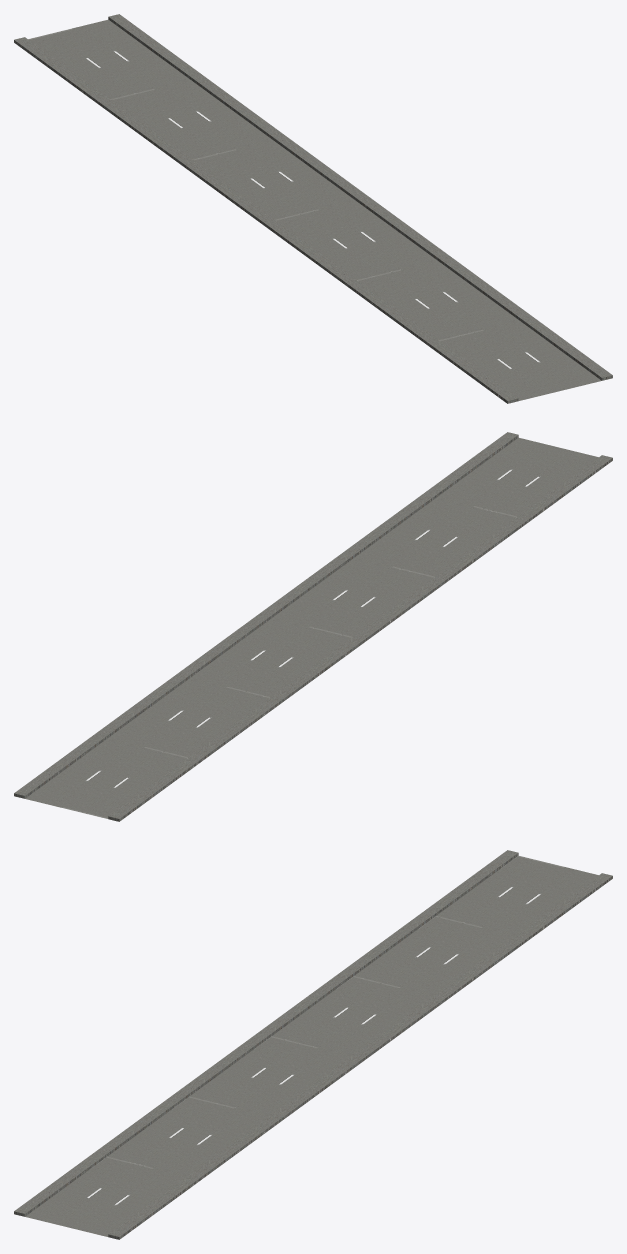
Rendered from Road.fbx.
3 renders of one model, top to bottom at view 1: azimuth 30°, elevation 25°; view 2: azimuth 150°, elevation 25°; view 3: azimuth 330°, elevation 25°, orthographic.
Visible parts, largest first — view 1: Plane; view 2: Plane; view 3: Plane.
Boxes of the visible parts, bbox=[...] form: Plane: bbox=[14, 14, 612, 403]; Plane: bbox=[14, 432, 612, 821]; Plane: bbox=[14, 850, 612, 1239].
Bounding box in the file's own units: 1001 × 26.3 × 8120.
2 materials, 2 textured.
